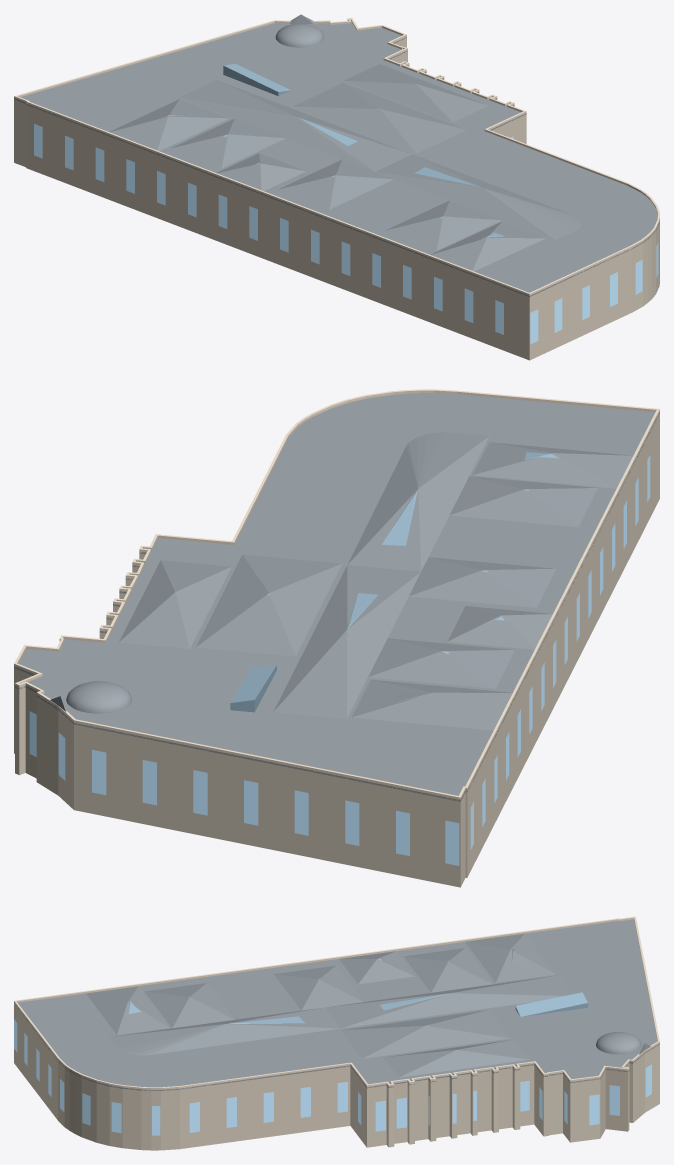
The picture shows the model from 3 angles, top to bottom: view 1: azimuth 30°, elevation 25°; view 2: azimuth 150°, elevation 25°; view 3: azimuth 270°, elevation 25°; orthographic projection. The views are drawn at different scales.
Parts seen in each view (by area): view 1: roof, stone, window, trim, glass; view 2: roof, stone, window, trim, glass; view 3: roof, stone, window, trim, glass.
Boxes of the visible parts, bbox=[...] form: roof: bbox=[14, 14, 659, 296]; stone: bbox=[14, 38, 659, 360]; window: bbox=[34, 124, 658, 344]; trim: bbox=[14, 18, 659, 296]; glass: bbox=[223, 63, 504, 239]; roof: bbox=[14, 393, 659, 801]; stone: bbox=[14, 414, 659, 887]; window: bbox=[29, 455, 650, 865]; trim: bbox=[14, 389, 659, 801]; glass: bbox=[175, 452, 558, 712]; roof: bbox=[15, 919, 659, 1090]; stone: bbox=[14, 1004, 659, 1150]; window: bbox=[14, 1019, 651, 1135]; trim: bbox=[14, 916, 659, 1090]; glass: bbox=[129, 958, 587, 1025].
Bounding box in the file's own units: 74.39 × 14 × 118.
